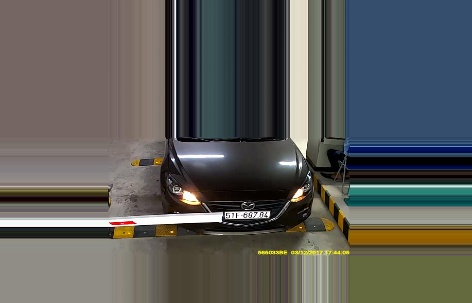plate: (222, 205, 271, 220)
